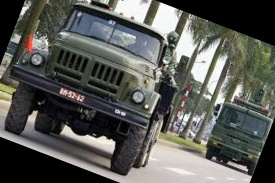plate: (57, 85, 85, 106)
